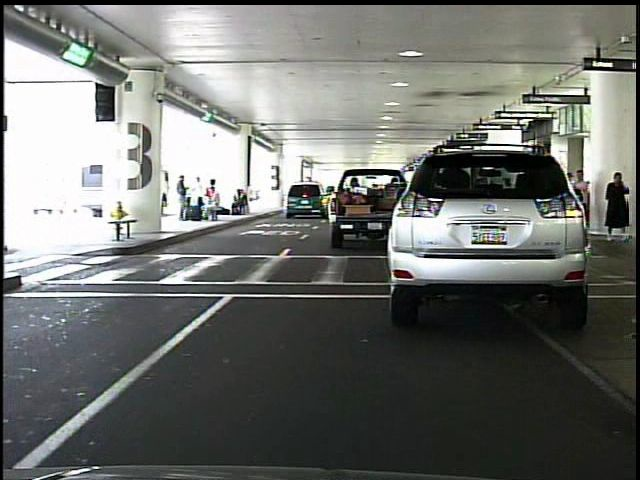person: (602, 168, 631, 244), (571, 167, 594, 240), (173, 171, 193, 224)
